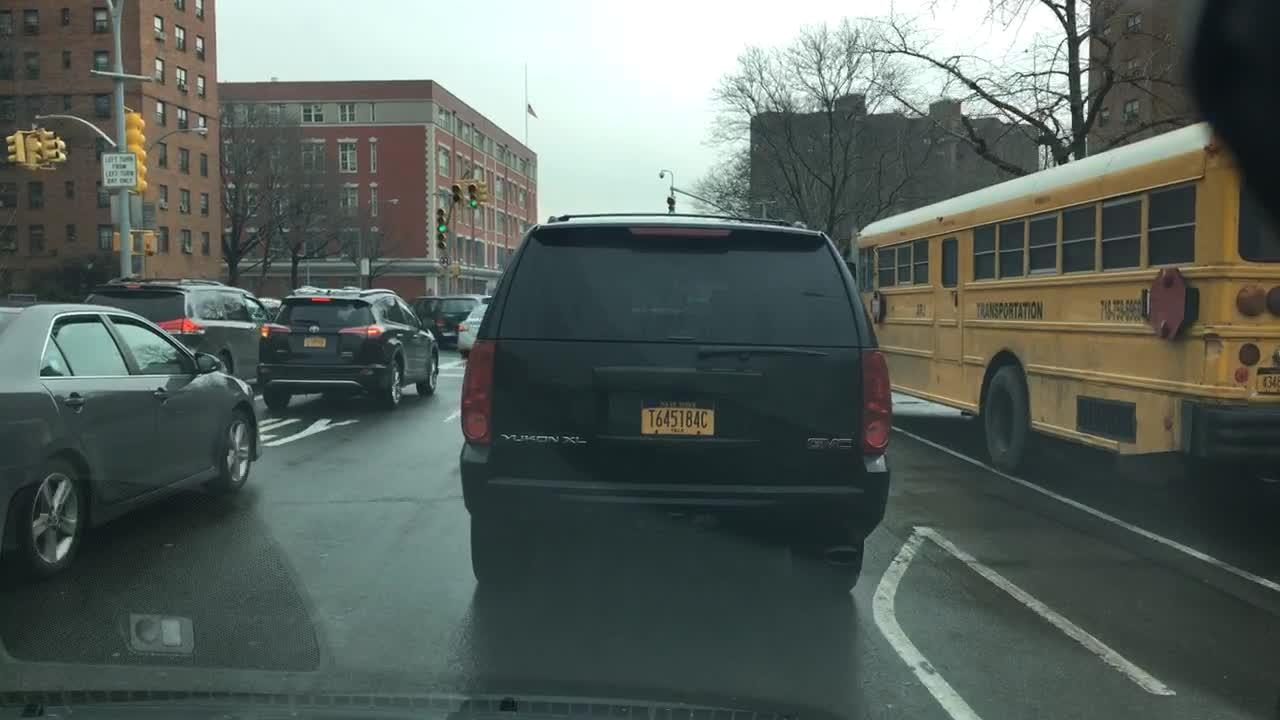GMC: (794, 423, 858, 461)
Toyota: (301, 320, 326, 336)
